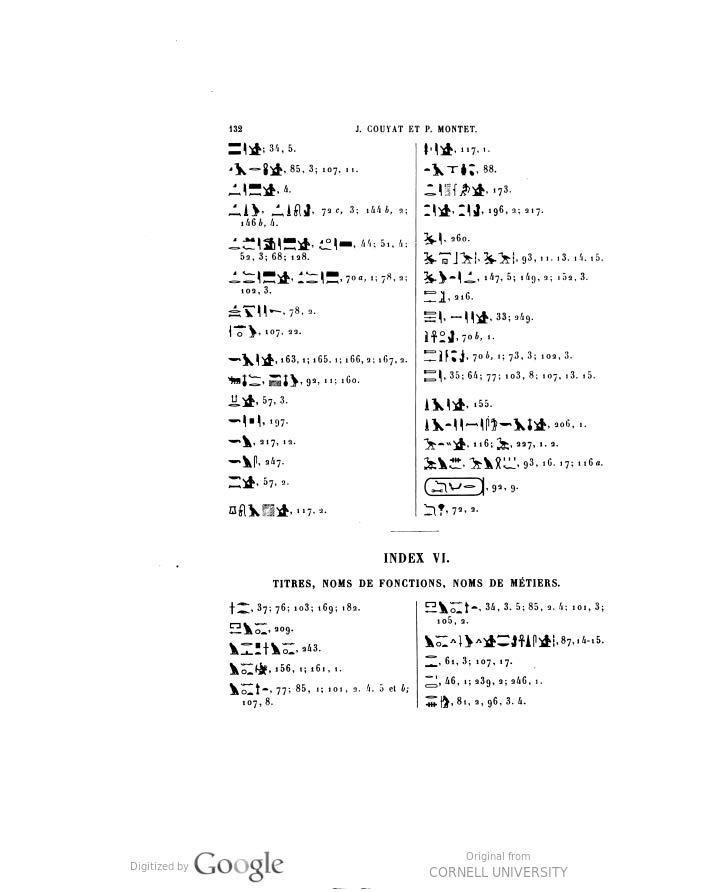circle: (397, 456, 512, 500)
